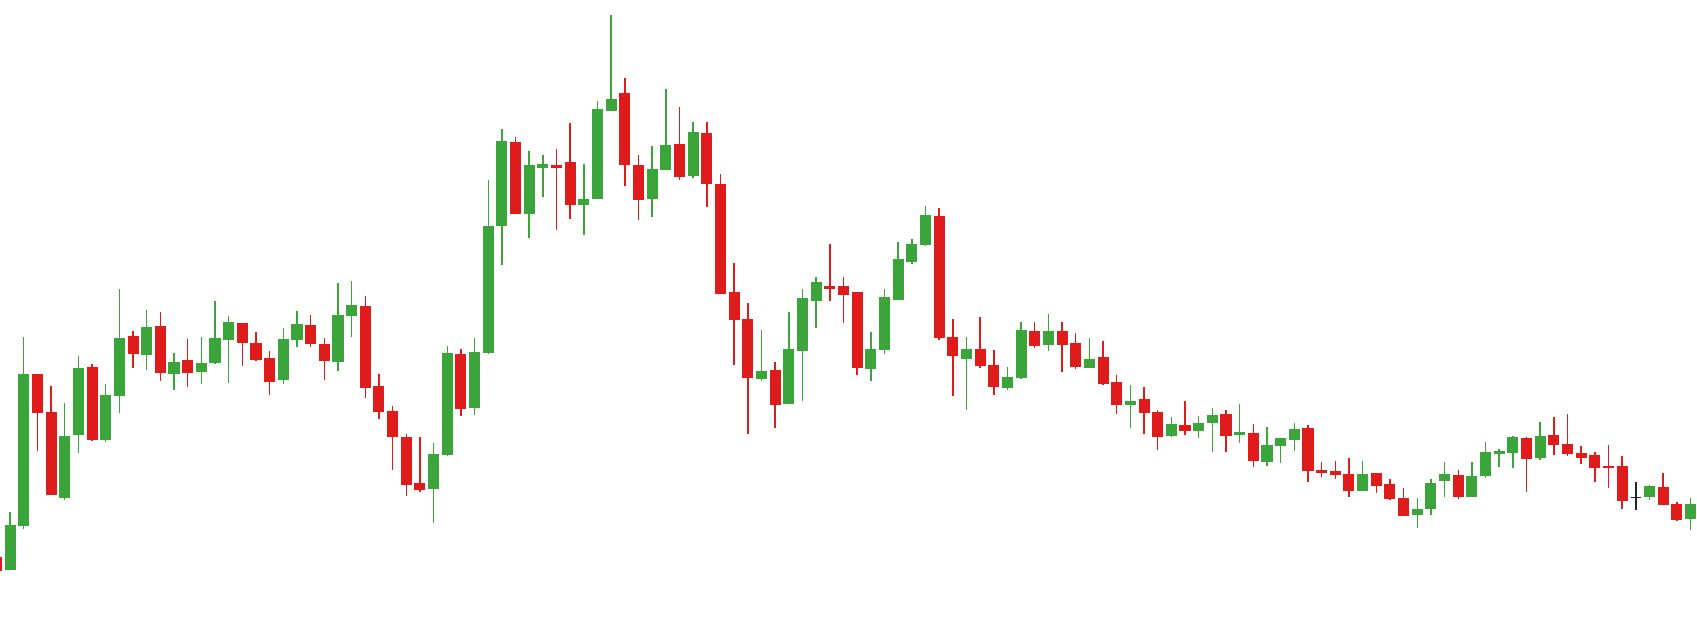buy: (44, 354, 442, 530)
sell: (823, 199, 948, 299)
